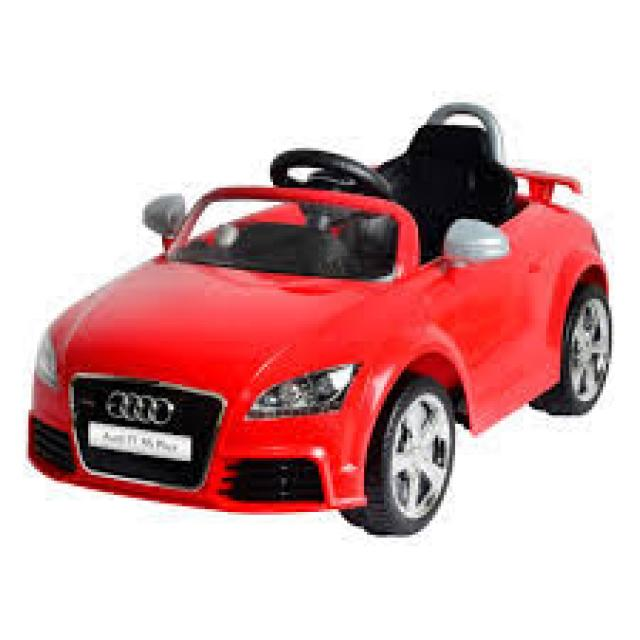Car: (28, 102, 609, 532)
